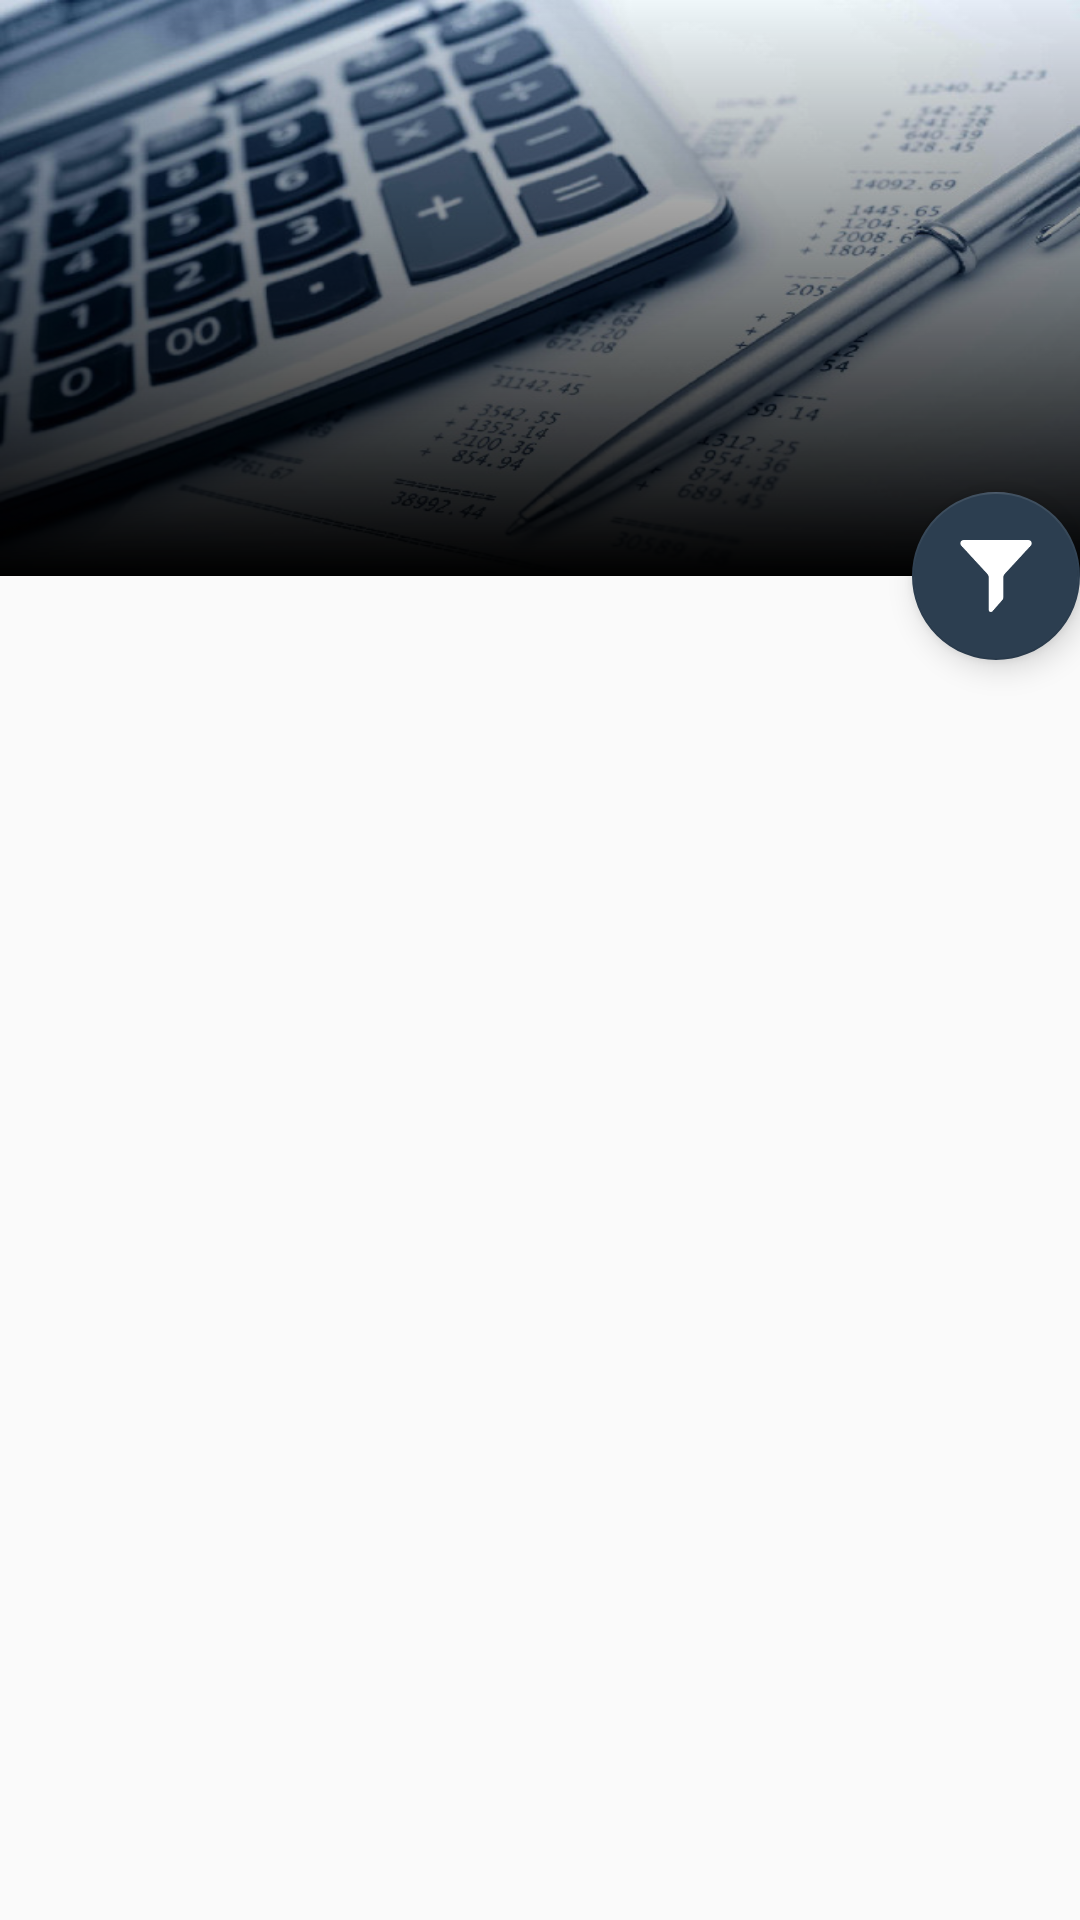

Screen size 1080x1920. Icon name, then its center in pixels as (x=x, y=y):
filter: (x=996, y=576)
